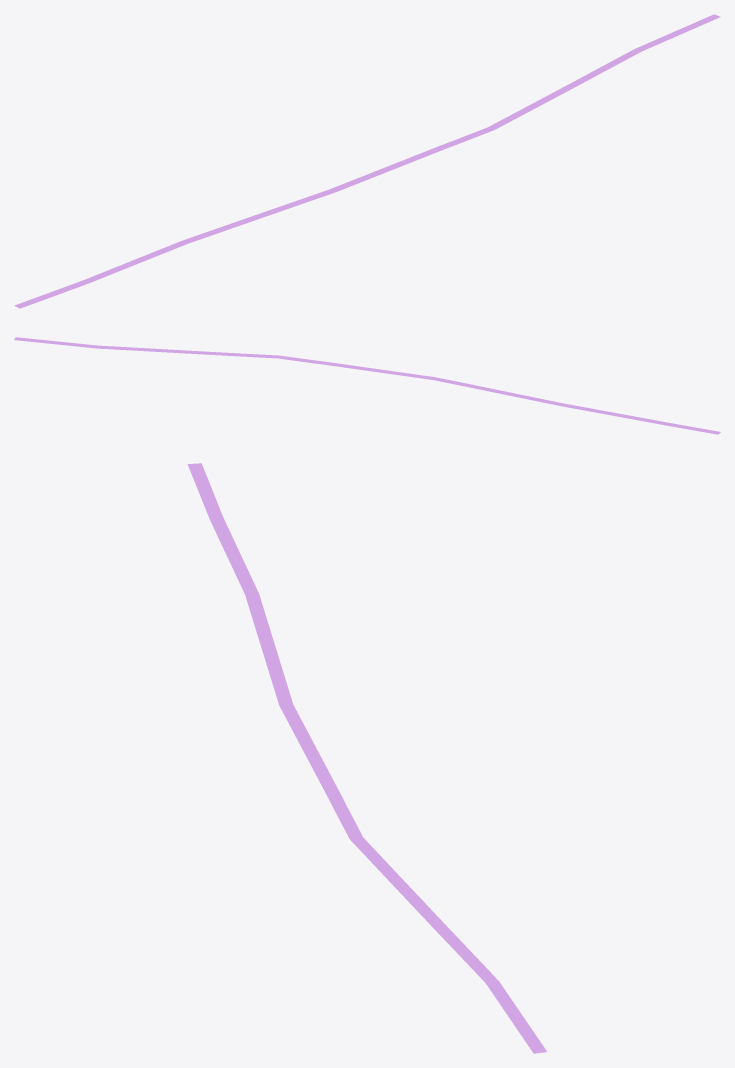
The model's file is route_northeast_branch.glb.
The picture shows the model from 3 angles, top to bottom: view 1: azimuth 30°, elevation 25°; view 2: azimuth 150°, elevation 25°; view 3: azimuth 270°, elevation 25°; orthographic projection. The views are drawn at different scales.
Parts seen in each view (by area): view 1: NortheastBranch; view 2: NortheastBranch; view 3: NortheastBranch.
Part boxes in pixels (x1,y1,x2,y2): NortheastBranch: (14,14,720,308); NortheastBranch: (14,337,720,434); NortheastBranch: (187,463,546,1053).
Size of the model in its own units: 124 by 1.58 by 31.26.
